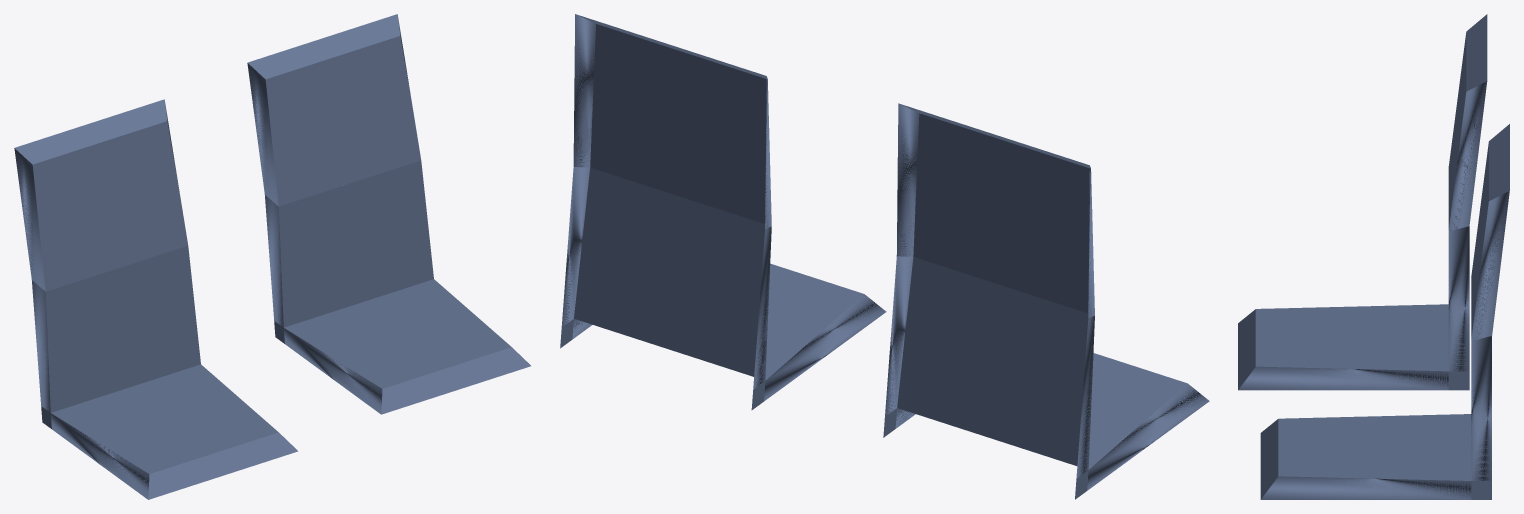
The picture shows the model from 3 angles, left to right: view 1: azimuth 30°, elevation 25°; view 2: azimuth 150°, elevation 25°; view 3: azimuth 270°, elevation 25°; orthographic projection. The views are drawn at different scales.
Visible parts, largest first — view 1: Seats.001, Seats.072; view 2: Seats.072, Seats.001; view 3: Seats.001, Seats.072.
Boxes of the visible parts, box(x1,y1,x2,y2) form: Seats.001: box(14, 99, 297, 499); Seats.072: box(247, 14, 530, 414); Seats.072: box(560, 14, 886, 410); Seats.001: box(883, 103, 1209, 499); Seats.001: box(1238, 14, 1487, 390); Seats.072: box(1260, 124, 1509, 499).
Bounding box in the file's own units: 3.74 × 2.63 × 1.95.
